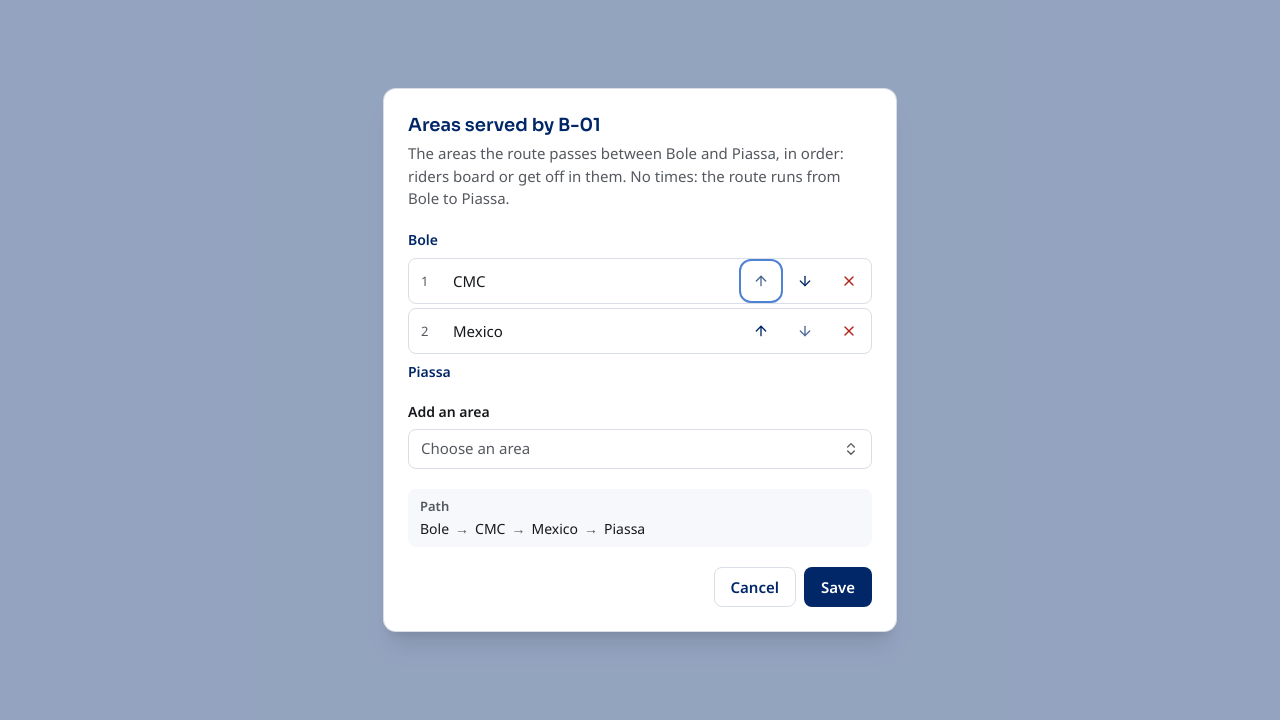
Scenario: RouteAreasDialog › clears the list
Later steps or results of the test are not shown.
Click the 3rd button: (849, 281) [831,263,867,299]
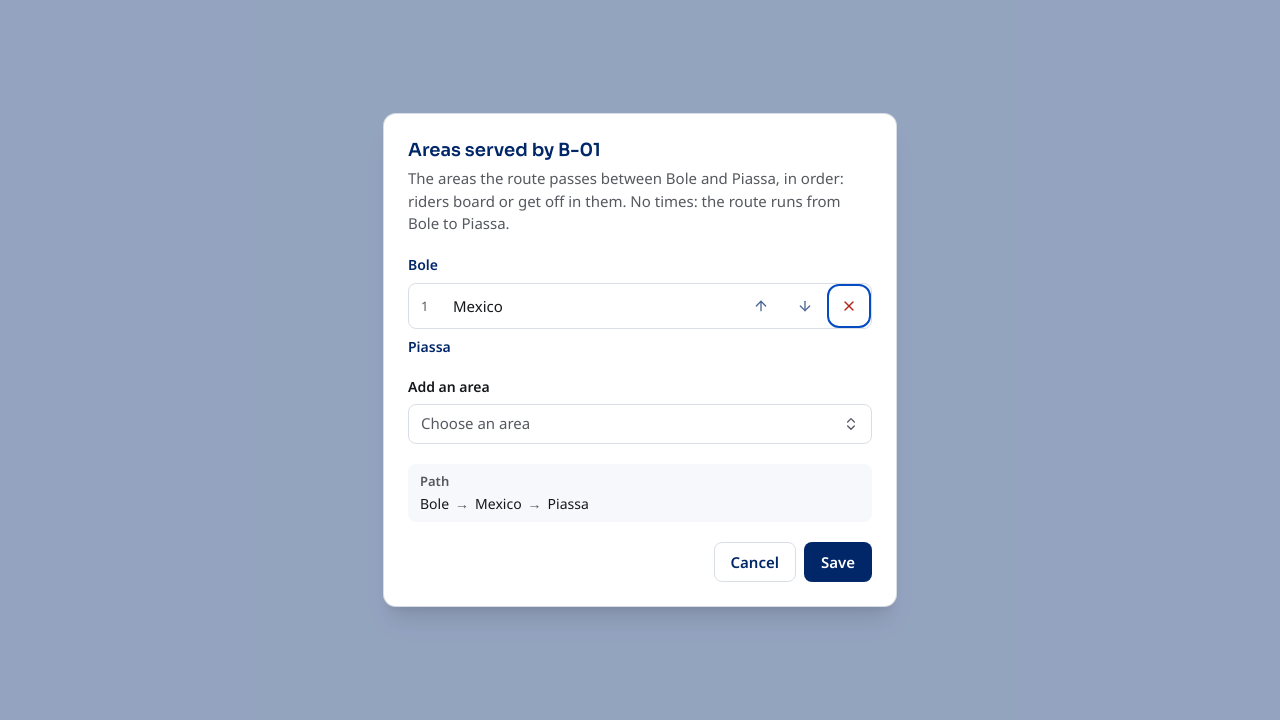
Click the 3rd button: (849, 306) [831,288,867,324]
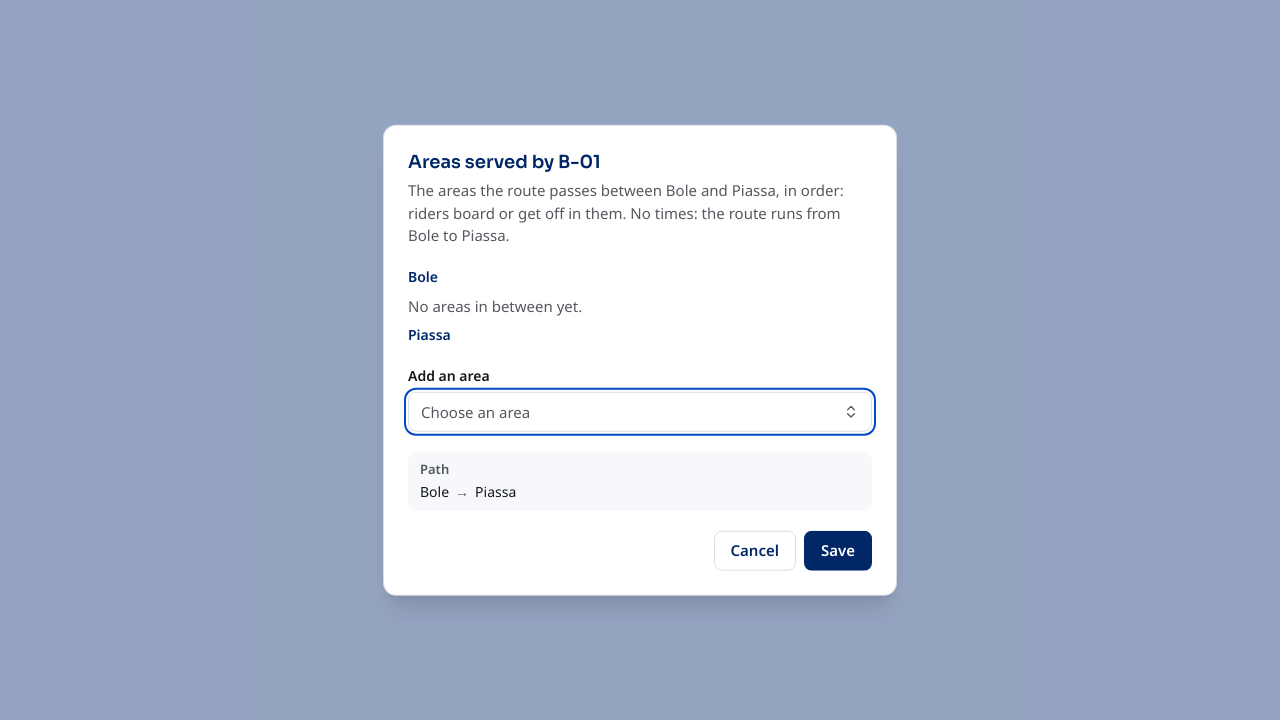
expect the text "No areas in between yet." is shown: met, box [408,296,582,316]
